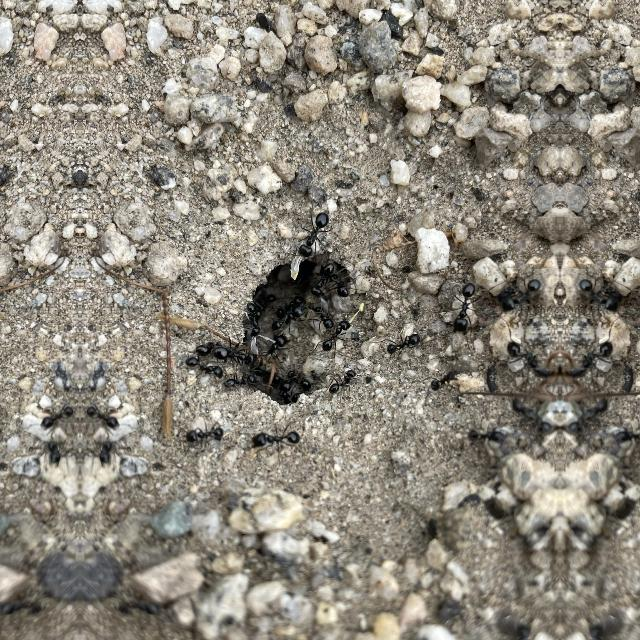Messor: (444, 273, 482, 333), (294, 206, 334, 262), (498, 272, 538, 318), (582, 272, 622, 318), (504, 334, 546, 376), (574, 334, 616, 376), (256, 420, 306, 454), (195, 338, 249, 367), (316, 317, 358, 353), (86, 398, 126, 429), (34, 398, 74, 429), (187, 358, 225, 390), (182, 422, 224, 450), (384, 327, 420, 359), (325, 367, 359, 397), (463, 426, 507, 448), (310, 262, 340, 294), (428, 365, 462, 391), (328, 269, 358, 297), (224, 368, 254, 394), (268, 302, 296, 328), (264, 370, 292, 396), (613, 425, 640, 448), (310, 301, 332, 329), (98, 434, 114, 472), (46, 434, 62, 472), (288, 372, 314, 392), (266, 334, 288, 356), (244, 299, 256, 315)
